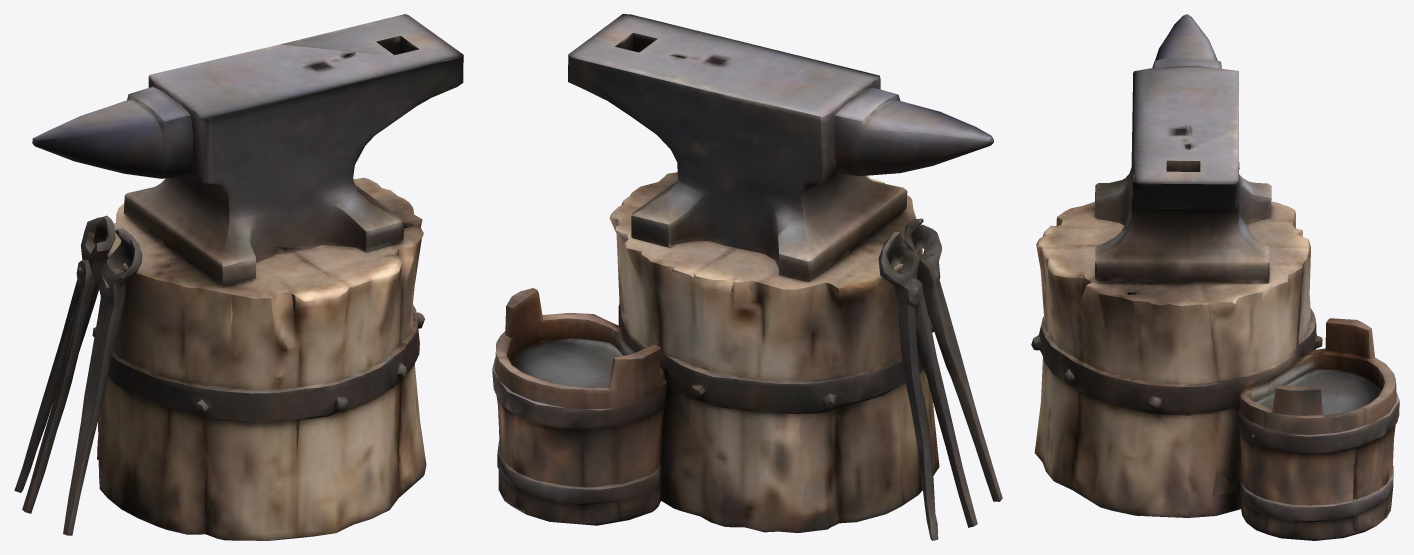
The model's file is prop-anvil.glb.
3 views of the same model, side by side, from view 1: azimuth 30°, elevation 25°; view 2: azimuth 150°, elevation 25°; view 3: azimuth 270°, elevation 25° (orthographic). The views are drawn at different scales.
Visible parts, largest first — view 1: prop-anvil; view 2: prop-anvil; view 3: prop-anvil.
Part boxes in pixels (bbox=[...]): prop-anvil: bbox=[14, 14, 463, 540]; prop-anvil: bbox=[492, 14, 1002, 540]; prop-anvil: bbox=[1031, 14, 1399, 540].
Bounding box in the file's own units: 1.4 × 1.25 × 1.17.
Materials: 1 (1 with a texture image).
